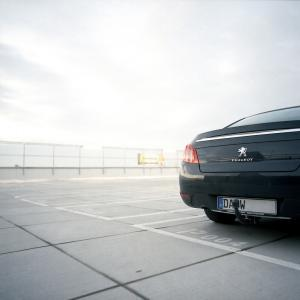Vehicle-registration-plate: (218, 197, 279, 217)
